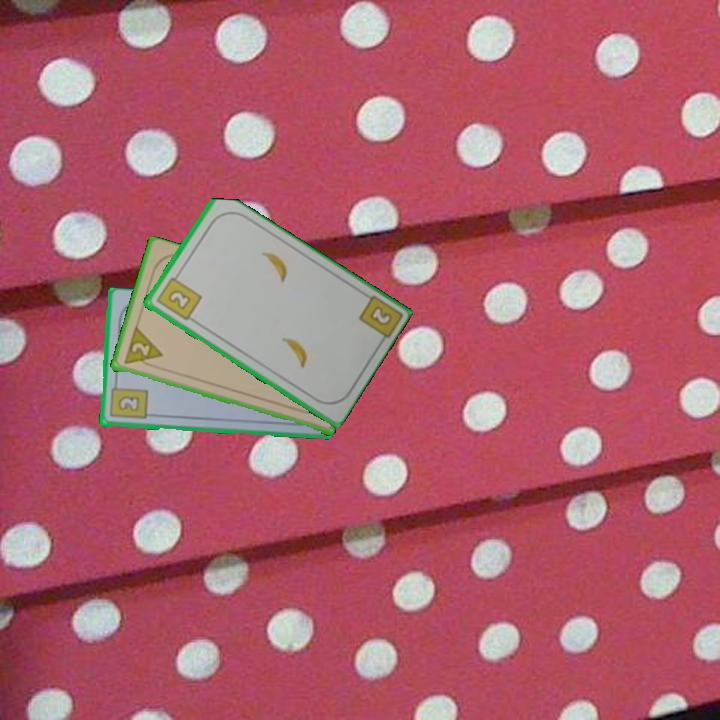2b: (152, 270, 204, 323), (106, 378, 150, 422), (365, 302, 395, 329)
2p: (120, 325, 165, 370)
